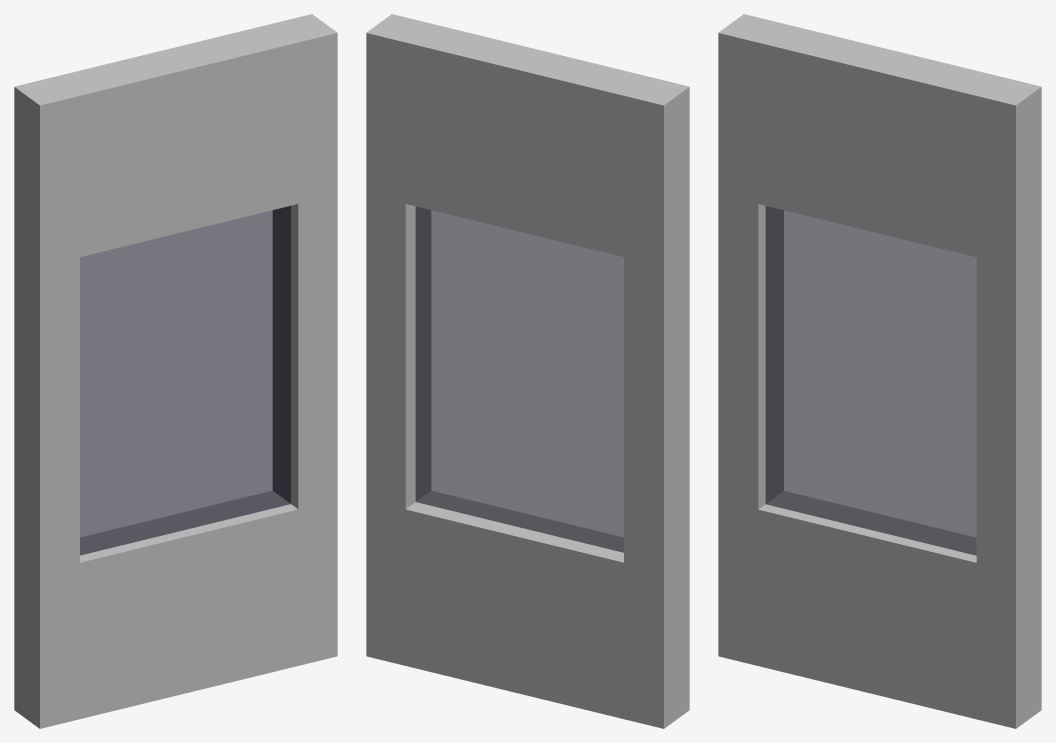
File: MetalWindow.glb
The picture shows the model from 3 angles, left to right: view 1: azimuth 30°, elevation 25°; view 2: azimuth 150°, elevation 25°; view 3: azimuth 330°, elevation 25°; orthographic projection.
Parts seen in each view (by area): view 1: wall_plain_metal_window; view 2: wall_plain_metal_window; view 3: wall_plain_metal_window.
Boxes of the visible parts, x1,y1,x2,y2 form: wall_plain_metal_window: [14, 14, 337, 728]; wall_plain_metal_window: [366, 14, 689, 728]; wall_plain_metal_window: [718, 14, 1041, 728].
Size of what is drawn, in the model's own units: 2 by 4 by 0.3.
2 materials, 2 textured.
